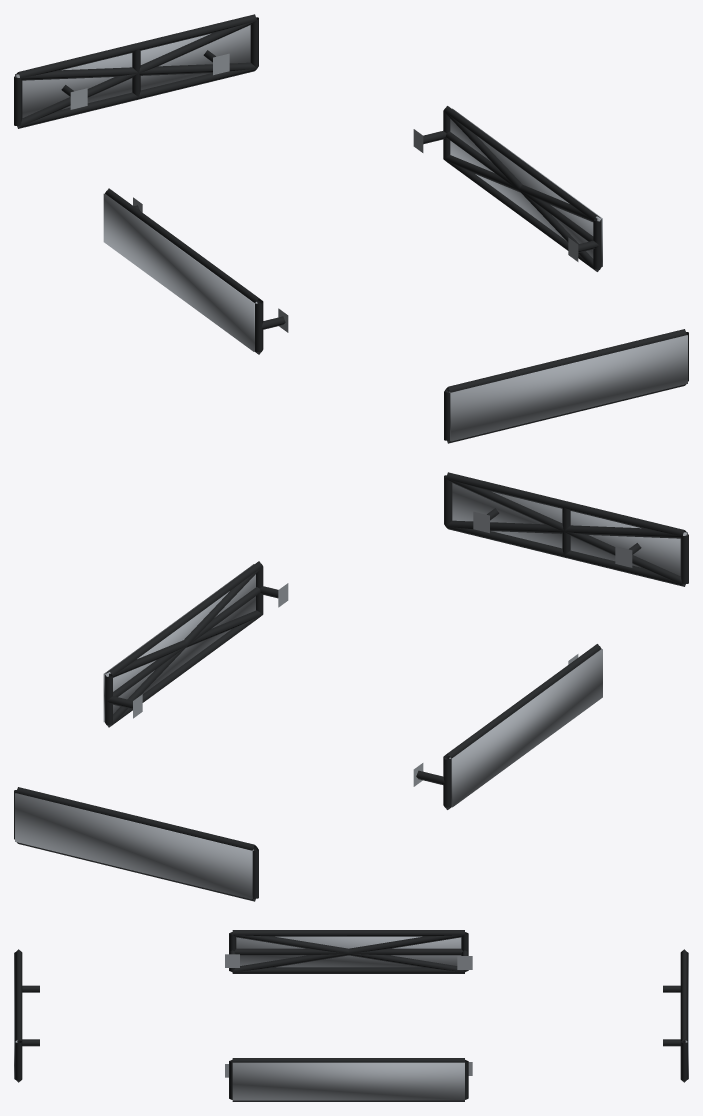
File: vantra_incisivo_protecao.glb
The picture shows the model from 3 angles, top to bottom: view 1: azimuth 30°, elevation 25°; view 2: azimuth 150°, elevation 25°; view 3: azimuth 270°, elevation 25°; orthographic projection. The views are drawn at different scales.
Parts seen in each view (by area): view 1: Protection_front_Level3_Details, Protection_left_Level3_Details, Protection_rear_Level1_Details, Protection_rear_Level3_Details, Protection_right_Level1_Details, Protection_rear_Level2_Details, Protection_right_Level2_Details, Protection_right_Level3_Details, Protection_front_Level1_Details, Protection_left_Level1_Details; view 2: Protection_rear_Level3_Details, Protection_left_Level3_Details, Protection_front_Level1_Details, Protection_front_Level3_Details, Protection_front_Level2_Details, Protection_right_Level1_Details, Protection_right_Level2_Details, Protection_right_Level3_Details, Protection_rear_Level1_Details, Protection_left_Level1_Details; view 3: Protection_right_Level3_Details, Protection_left_Level2_Details, Protection_left_Level3_Details, Protection_left_Level1_Details, Protection_right_Level1_Details, Protection_rear_Level1_Details, Protection_front_Level1_Details.
Boxes of the visible parts, box(x1,y1,x2,y2) form: Protection_front_Level3_Details: box(449, 335, 687, 441); Protection_left_Level3_Details: box(103, 193, 257, 351); Protection_rear_Level1_Details: box(14, 14, 258, 128); Protection_rear_Level3_Details: box(15, 25, 250, 118); Protection_right_Level1_Details: box(413, 106, 601, 271); Protection_rear_Level2_Details: box(16, 20, 256, 127); Protection_right_Level2_Details: box(443, 111, 600, 271); Protection_right_Level3_Details: box(450, 108, 602, 266); Protection_front_Level1_Details: box(444, 329, 688, 443); Protection_left_Level1_Details: box(105, 188, 288, 354); Protection_rear_Level3_Details: box(15, 793, 253, 899); Protection_left_Level3_Details: box(449, 649, 602, 807); Protection_front_Level1_Details: box(444, 472, 688, 586); Protection_front_Level3_Details: box(452, 483, 687, 576); Protection_front_Level2_Details: box(446, 478, 686, 585); Protection_right_Level1_Details: box(105, 561, 288, 727); Protection_right_Level2_Details: box(105, 567, 262, 727); Protection_right_Level3_Details: box(103, 564, 255, 722); Protection_rear_Level1_Details: box(14, 787, 258, 901); Protection_left_Level1_Details: box(413, 644, 601, 809); Protection_right_Level3_Details: box(232, 1062, 464, 1100); Protection_left_Level2_Details: box(232, 932, 465, 972); Protection_left_Level3_Details: box(236, 936, 461, 967); Protection_left_Level1_Details: box(225, 930, 472, 973); Protection_right_Level1_Details: box(225, 1058, 472, 1101); Protection_rear_Level1_Details: box(663, 949, 687, 1082); Protection_front_Level1_Details: box(15, 949, 39, 1082).
Bounding box in the file's own units: 2.27 × 0.354 × 4.91.
1 material, 1 textured.
